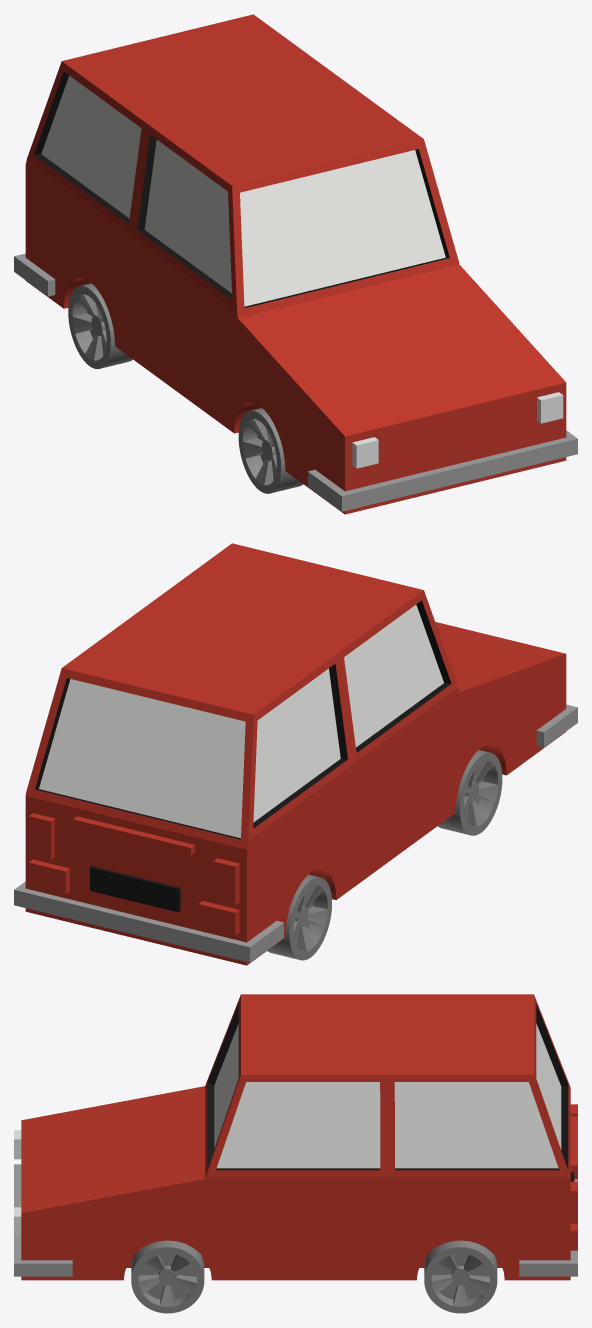
Rendered from FirstCar v12.fbx.
3 views of the same model, one above another, from view 1: azimuth 30°, elevation 25°; view 2: azimuth 150°, elevation 25°; view 3: azimuth 270°, elevation 25° (orthographic). The views are drawn at different scales.
Visible parts, largest first — view 1: Body1 (×5); view 2: Body1 (×7), Körper1 (×2); view 3: Body1 (×4).
Part boxes in pixels (left/top/right/bottom): Body1 (×5): left=14, top=14, right=577, bottom=514; Body1 (×7): left=14, top=543, right=577, bottom=965; Körper1 (×2): left=28, top=859, right=239, bottom=935; Body1 (×4): left=14, top=994, right=577, bottom=1313.
Size of the model in its own units: 6400 by 7001 by 15400.
